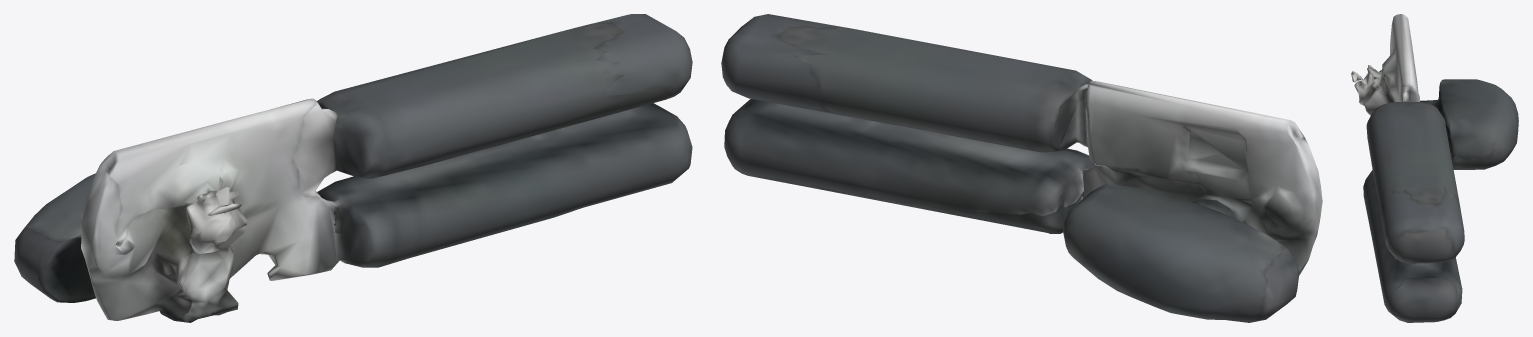
Rendered from Granimals_20_Wooden_ABC_Blocks_Wagon_g2TinmUGGHI-medium.glb.
The picture shows the model from 3 angles, left to right: view 1: azimuth 30°, elevation 25°; view 2: azimuth 150°, elevation 25°; view 3: azimuth 270°, elevation 25°; orthographic projection. The views are drawn at different scales.
Visible parts, largest first — view 1: Granimals_20_Wooden_ABC_Blocks_Wagon_g2TinmUGGHI; view 2: Granimals_20_Wooden_ABC_Blocks_Wagon_g2TinmUGGHI; view 3: Granimals_20_Wooden_ABC_Blocks_Wagon_g2TinmUGGHI.
Part boxes in pixels (<box>): Granimals_20_Wooden_ABC_Blocks_Wagon_g2TinmUGGHI: <box>14,14,692,322</box>; Granimals_20_Wooden_ABC_Blocks_Wagon_g2TinmUGGHI: <box>721,14,1322,322</box>; Granimals_20_Wooden_ABC_Blocks_Wagon_g2TinmUGGHI: <box>1351,14,1518,322</box>.
Size of the model in its own units: 0.1916 by 0.0503 by 0.0636.
1 material, 1 textured.
